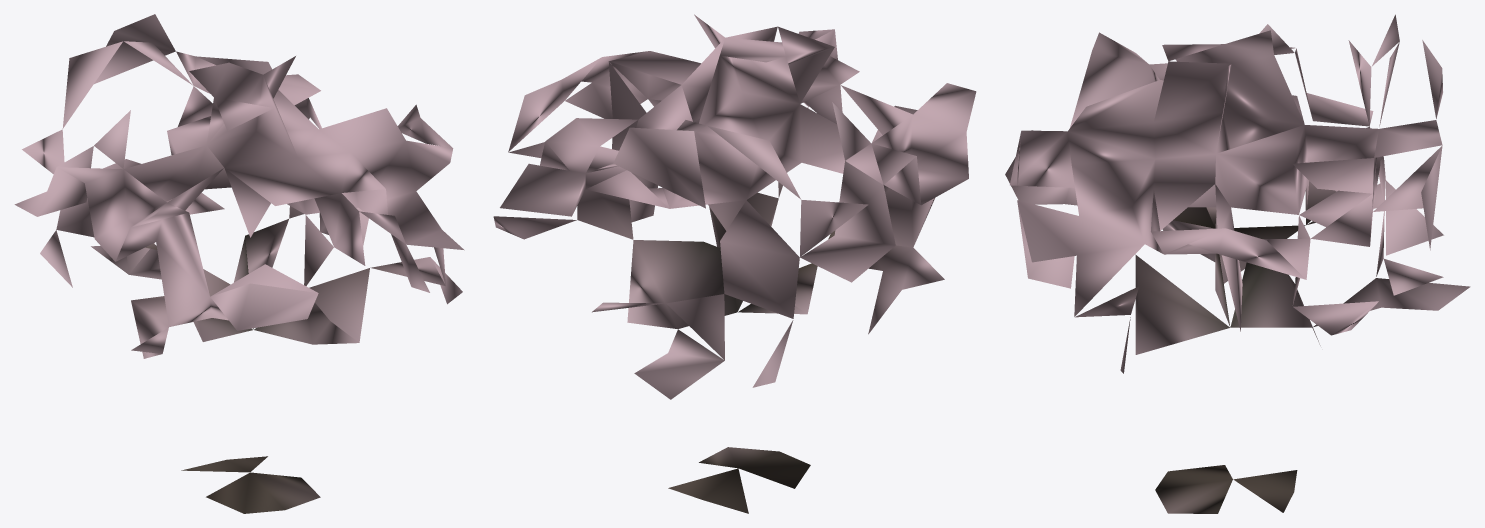
Rendered from sakura_a.3.glb.
The picture shows the model from 3 angles, left to right: view 1: azimuth 30°, elevation 25°; view 2: azimuth 150°, elevation 25°; view 3: azimuth 270°, elevation 25°; orthographic projection. The views are drawn at different scales.
Visible parts, largest first — view 1: lod; view 2: lod; view 3: lod.
Part boxes in pixels (<box>): lod: <box>14,14,464,513</box>; lod: <box>493,14,976,513</box>; lod: <box>1005,14,1470,513</box>.
Bounding box in the file's own units: 0.8278 × 0.9204 × 0.8649.
